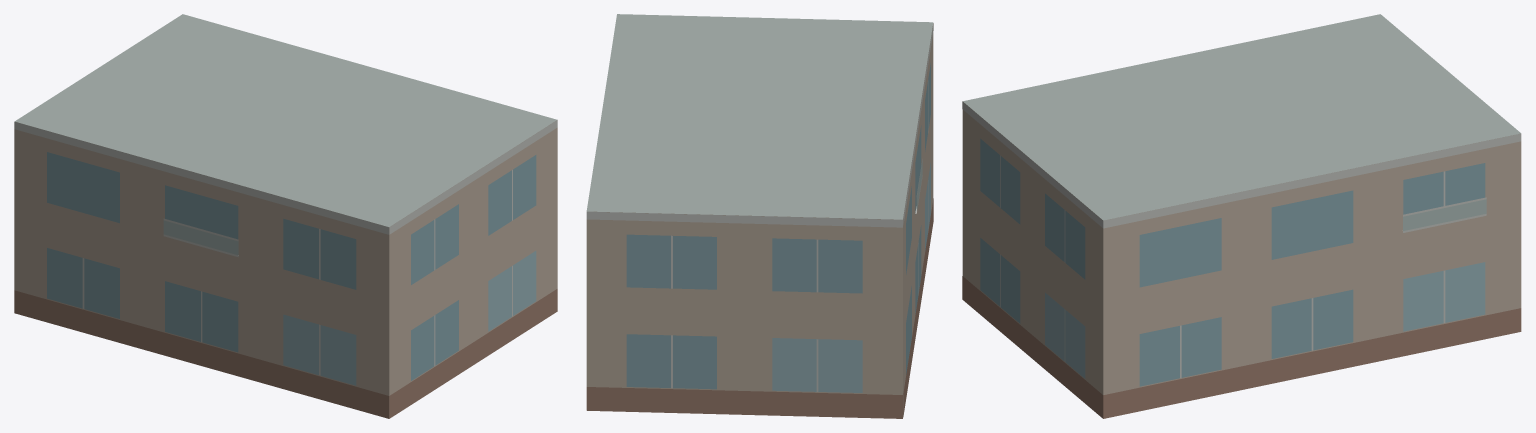
The model's file is survey-upis-32703218.glb.
The picture shows the model from 3 angles, left to right: view 1: azimuth 30°, elevation 25°; view 2: azimuth 150°, elevation 25°; view 3: azimuth 270°, elevation 25°; orthographic projection. The views are drawn at different scales.
Visible parts, largest first — view 1: survey-upis-32703218.tmp; view 2: survey-upis-32703218.tmp; view 3: survey-upis-32703218.tmp.
Part boxes in pixels (x1,y1,x2,y2): survey-upis-32703218.tmp: (14,14,557,418); survey-upis-32703218.tmp: (586,14,933,418); survey-upis-32703218.tmp: (962,14,1521,418).
Size of the model in its own units: 13.64 by 6.1 by 15.59.
